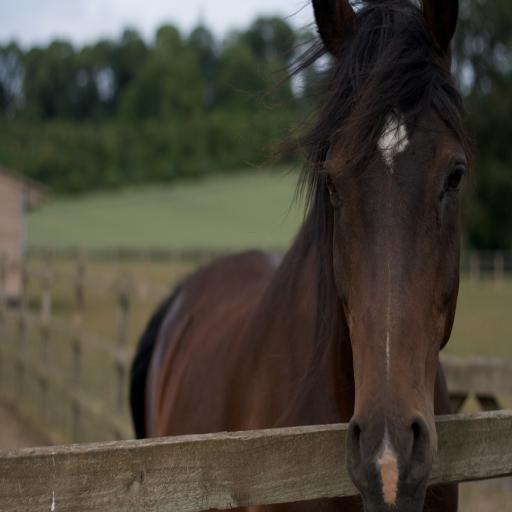horse: (129, 0, 476, 512)
